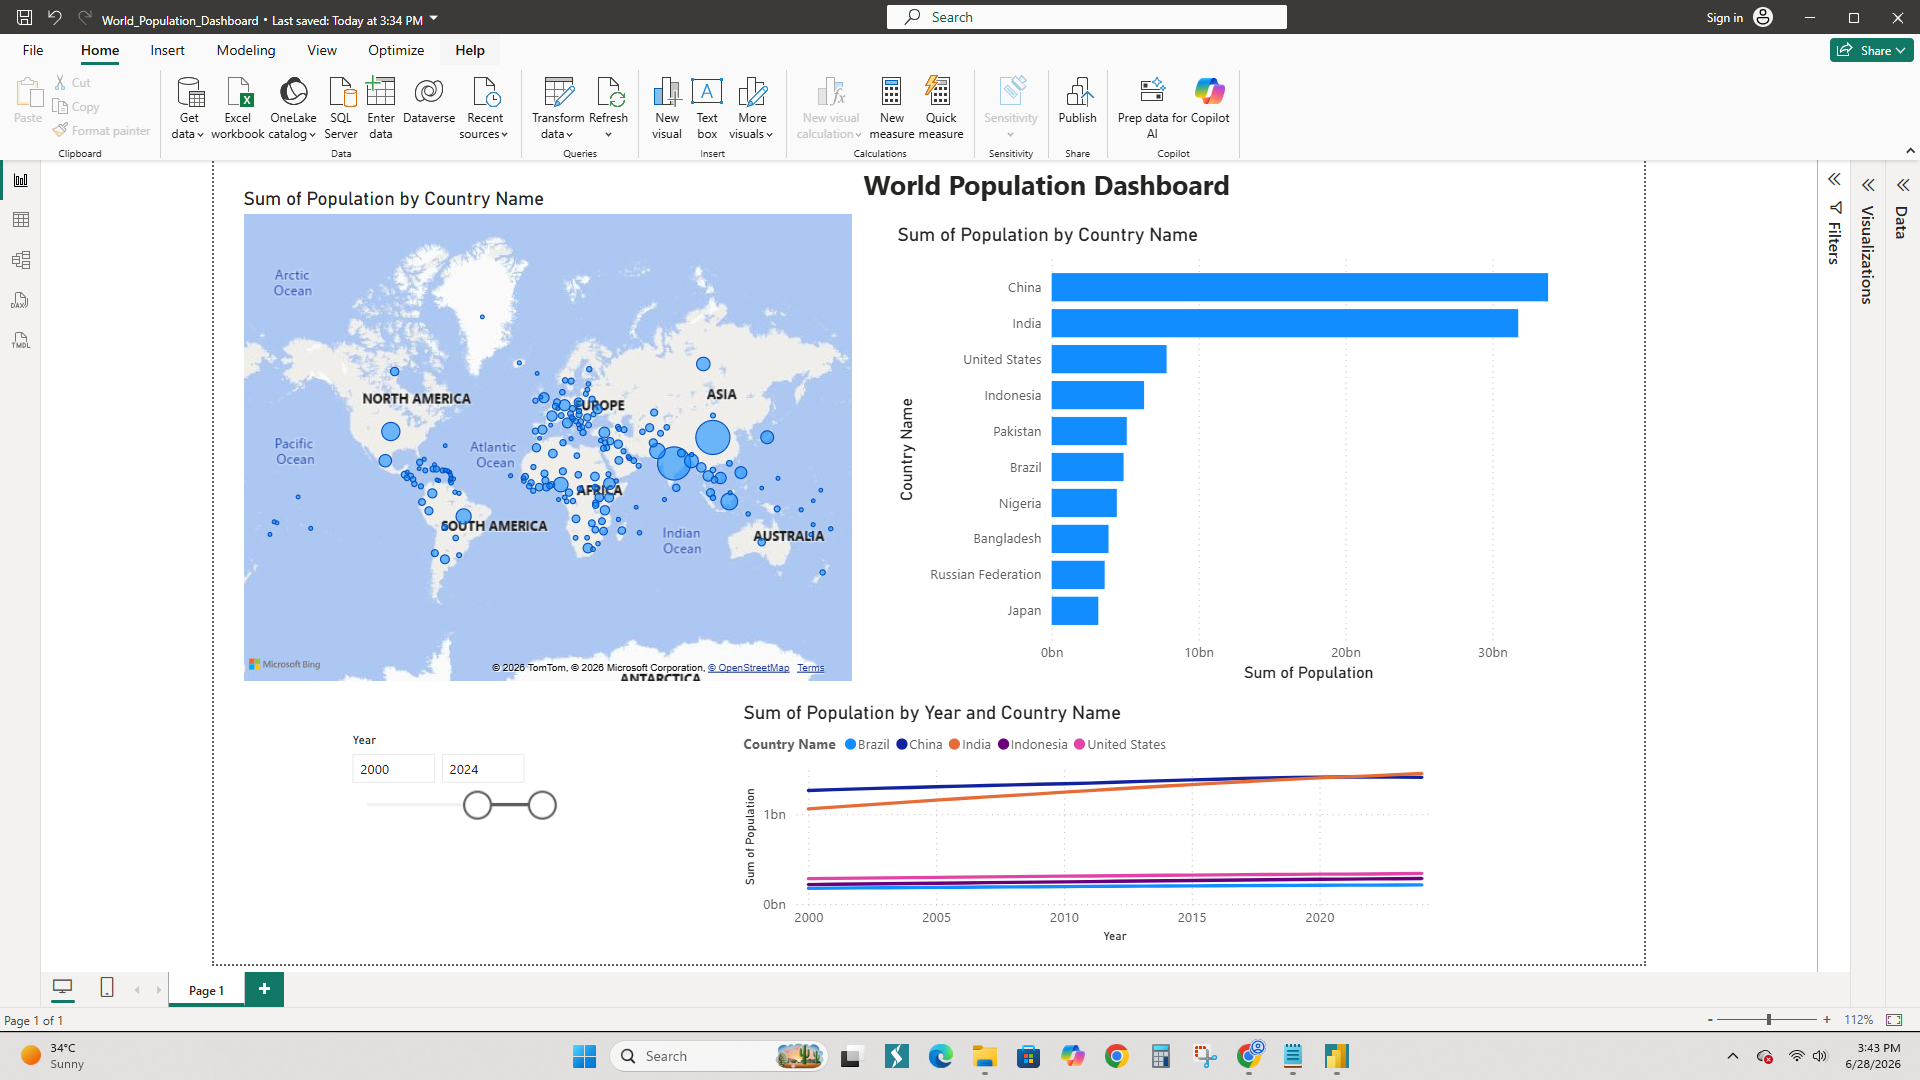

What the dashboard file says about the page in this screenshot:
{"tool":"powerbi","page":{"name":"Page 1","canvas":[1280,720],"ordinal":0},"visuals":[{"type":"map","fields":{"Category":["API_SP POP TOTL_DS2_en_csv_v2_430662.Country Name"],"Size":["Sum(API_SP POP TOTL_DS2_en_csv_v2_430662.Population)"]},"box":[21.4,24.3,555.4,447.4],"z":0},{"type":"slicer","fields":{"Values":["API_SP POP TOTL_DS2_en_csv_v2_430662.Year"]},"box":[110.9,507.7,204.3,87.5],"z":1},{"type":"clusteredBarChart","fields":{"Category":["API_SP POP TOTL_DS2_en_csv_v2_430662.Country Name"],"Y":["Sum(API_SP POP TOTL_DS2_en_csv_v2_430662.Population)"]},"box":[606.9,56.4,622.5,415.3],"z":2},{"type":"lineChart","fields":{"Category":["API_SP POP TOTL_DS2_en_csv_v2_430662.Year"],"Y":["Sum(API_SP POP TOTL_DS2_en_csv_v2_430662.Population)"],"Series":["API_SP POP TOTL_DS2_en_csv_v2_430662.Country Name"]},"box":[468.8,484.4,630.3,220.8],"z":3},{"type":"textbox","box":[576.8,0,341.4,41.8],"z":4}]}

Visuals, with their boxes on the page's 1280x720 design canvas (x1, y1, x2, y2). These are canvas units, not pixel positions in the 1920x1080 screenshot, which may show the page scaled, cropped or inside an application window:
map - API_SP POP TOTL_DS2_en_csv_v2_430662.Country Name x Sum(API_SP POP TOTL_DS2_en_csv_v2_430662.Population): select_region(21, 24, 577, 472)
slicer - API_SP POP TOTL_DS2_en_csv_v2_430662.Year: select_region(111, 508, 315, 595)
clusteredBarChart - API_SP POP TOTL_DS2_en_csv_v2_430662.Country Name x Sum(API_SP POP TOTL_DS2_en_csv_v2_430662.Population): select_region(607, 56, 1229, 472)
lineChart - API_SP POP TOTL_DS2_en_csv_v2_430662.Year x Sum(API_SP POP TOTL_DS2_en_csv_v2_430662.Population): select_region(469, 484, 1099, 705)
textbox: select_region(577, 0, 918, 42)
